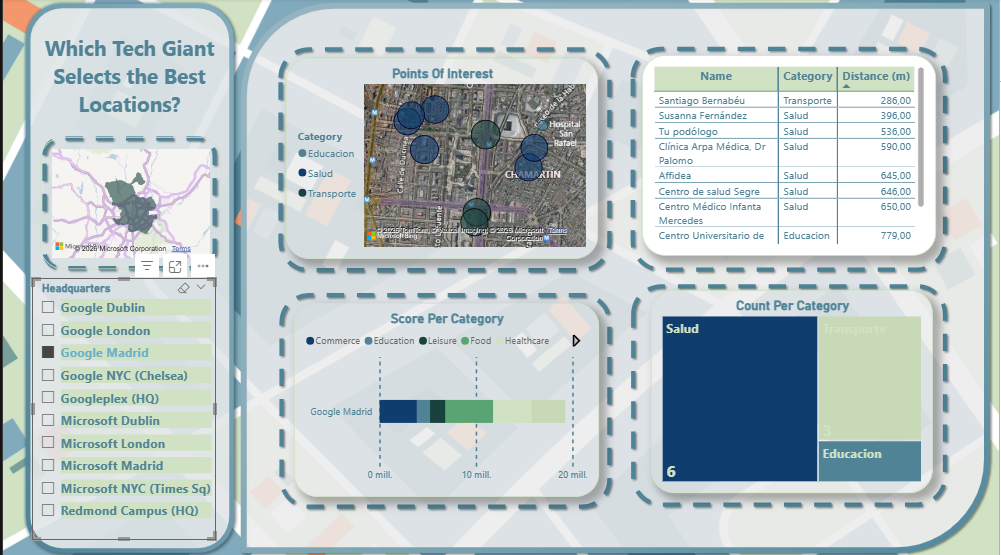

Layout of this report page (visuals, bound fields, positions):
{"tool":"powerbi","page":{"name":"Locations","canvas":[1280,720],"ordinal":1},"visuals":[{"type":"map","title":"Points Of Interest","fields":{"Y":["Análisis de Sedes Big Tech y Di.Lugar_Latitud"],"X":["Análisis de Sedes Big Tech y Di.Lugar_Longitud"],"Series":["Análisis de Sedes Big Tech y Di.Lugar_Categoria"],"Size":["Sum(Análisis de Sedes Big Tech y Di.Peso_Distancia)"]},"box":[363.7,77.1,401,258.3],"z":0},{"type":"slicer","fields":{"Values":["Análisis de Sedes Big Tech y Di.Nombre de Sede"]},"box":[37.3,359.8,236.5,336.7],"z":1000},{"type":"treemap","title":"Count Per Category","fields":{"Group":["Análisis de Sedes Big Tech y Di.Lugar_Categoria"],"Values":["CountNonNull(Análisis de Sedes Big Tech y Di.Lugar_Nombre)"]},"box":[832.8,375.3,362.4,260.9],"z":2000},{"type":"tableEx","fields":{"Values":["Análisis de Sedes Big Tech y Di.Lugar_Nombre","Análisis de Sedes Big Tech y Di.Lugar_Categoria","Sum(Análisis de Sedes Big Tech y Di.Distancia (m))"]},"box":[821.2,73.3,377.8,258.3],"z":3000},{"type":"barChart","title":"Score Per Category","fields":{"Category":["Análisis de Sedes Big Tech y Di.Nombre de Sede"],"Y":["Sum(Análisis de Sedes Big Tech y Di.Pts_comercio)","Sum(Análisis de Sedes Big Tech y Di.Pts_educacion)","Sum(Análisis de Sedes Big Tech y Di.Pts_ocio)","Sum(Análisis de Sedes Big Tech y Di.Pts_restauracion)","Sum(Análisis de Sedes Big Tech y Di.Pts_salud)","Sum(Análisis de Sedes Big Tech y Di.Pts_transporte)"]},"box":[374,392,392,249.3],"z":4000},{"type":"textbox","box":[36,41.1,253.2,161.9],"z":5000},{"type":"filledMap","fields":{"Category":["Análisis de Sedes Big Tech y Di.Ciudad"],"Y":["Min(Análisis de Sedes Big Tech y Di.Latitud)"],"X":["Min(Análisis de Sedes Big Tech y Di.Longitud)"]},"box":[47.6,178.6,233.9,169.6],"z":6000}]}

Visuals, with their boxes on the page's 1280x720 design canvas (x1, y1, x2, y2). These are canvas units, not pixel positions in the 1001x555 screenshot, which may show the page scaled, cropped or inside an application window:
"Points Of Interest" map: <box>364,77,765,335</box>
slicer - Análisis de Sedes Big Tech y Di.Nombre de Sede: <box>37,360,274,696</box>
"Count Per Category" treemap: <box>833,375,1195,636</box>
tableEx - Análisis de Sedes Big Tech y Di.Lugar_Nombre x Análisis de Sedes Big Tech y Di.Lugar_Categoria: <box>821,73,1199,332</box>
"Score Per Category" barChart: <box>374,392,766,641</box>
textbox: <box>36,41,289,203</box>
filledMap - Análisis de Sedes Big Tech y Di.Ciudad x Min(Análisis de Sedes Big Tech y Di.Latitud): <box>48,179,282,348</box>
